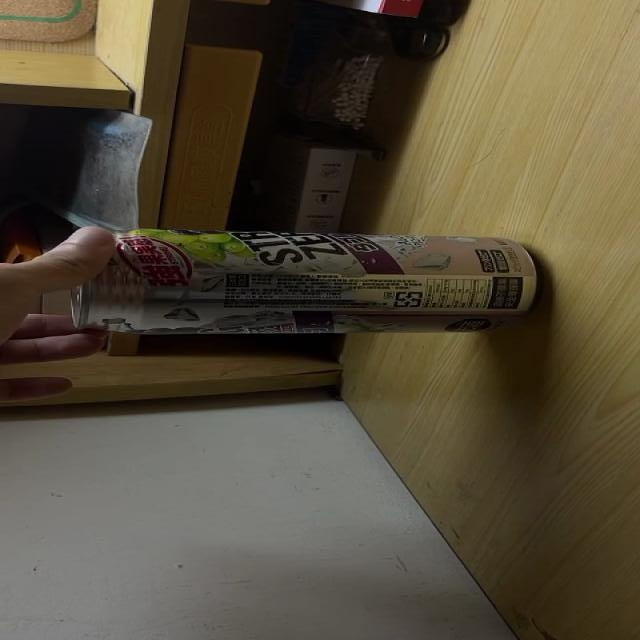Liquor: (70, 230, 541, 331)
